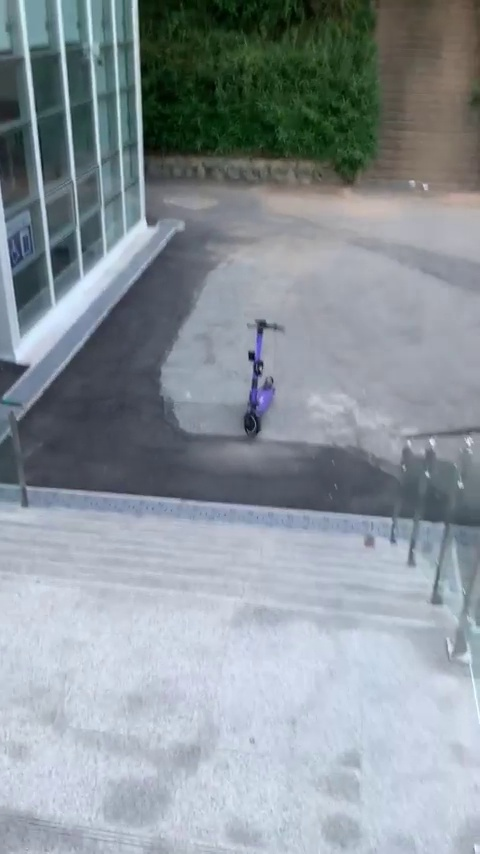beam: (235, 311, 290, 442)
